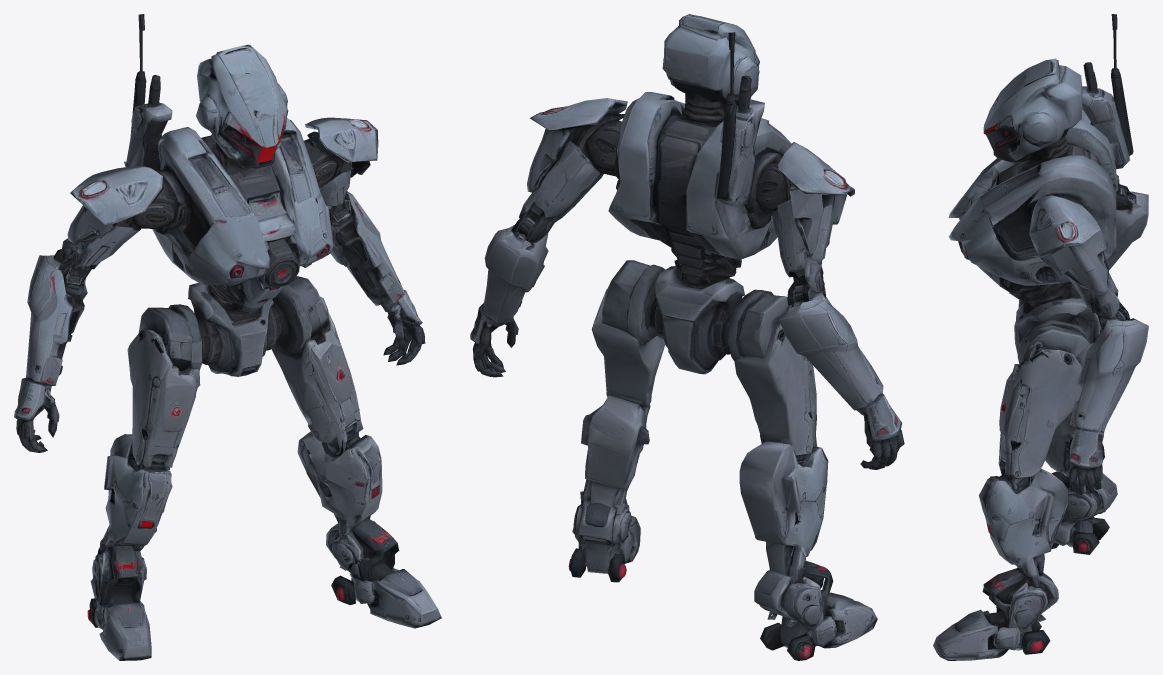
File: t243_esc_lod0.glb
3 renders of one model, left to right at view 1: azimuth 30°, elevation 25°; view 2: azimuth 150°, elevation 25°; view 3: azimuth 270°, elevation 25°, orthographic. The views are drawn at different scales.
Size of the model in its own units: 1.36 by 1.9 by 0.6734.
Materials: 1 (1 with a texture image).
